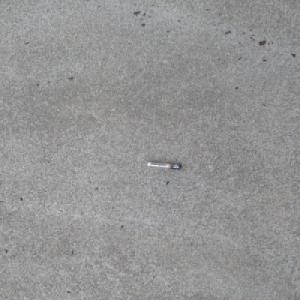Battery: (146, 161, 182, 169)
